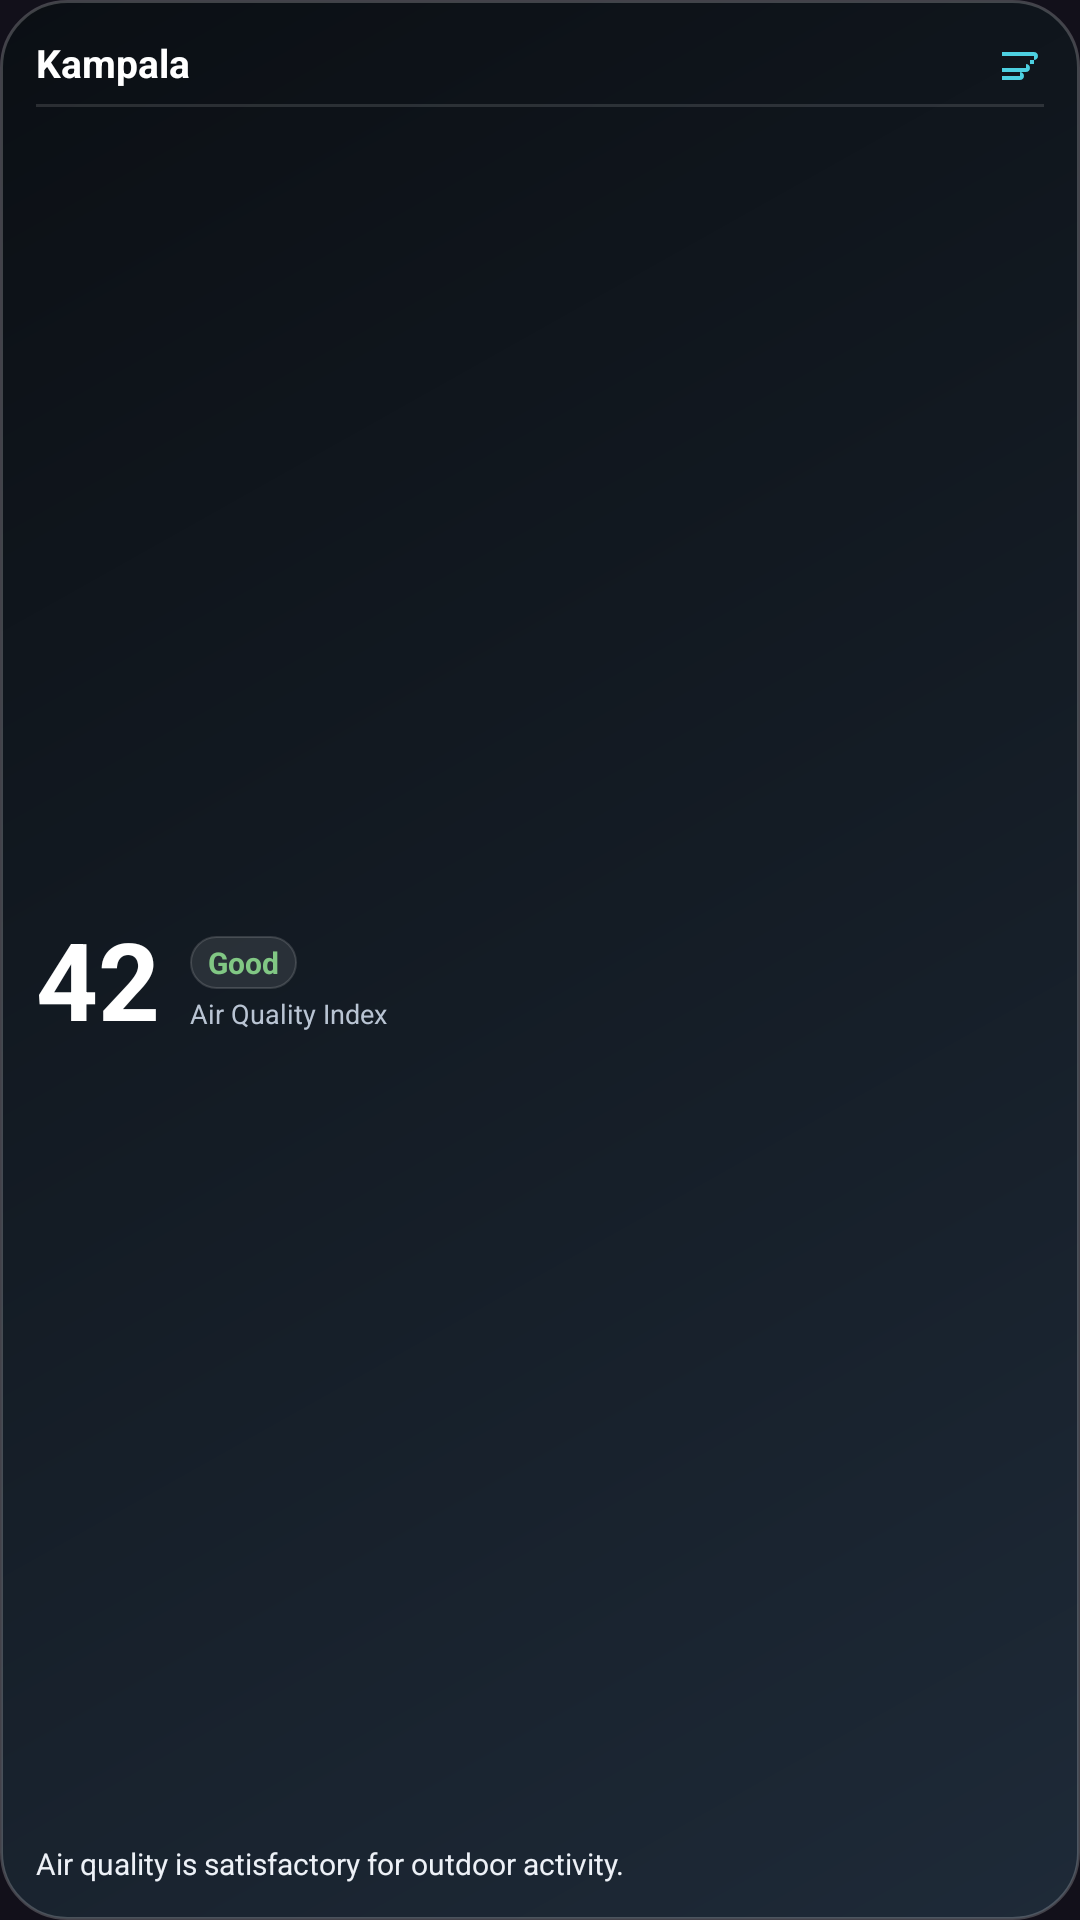

Point at icon controls on the screen. Image size 1080 × 1920, points as (x,y).
weather aqi: (1020,66)
